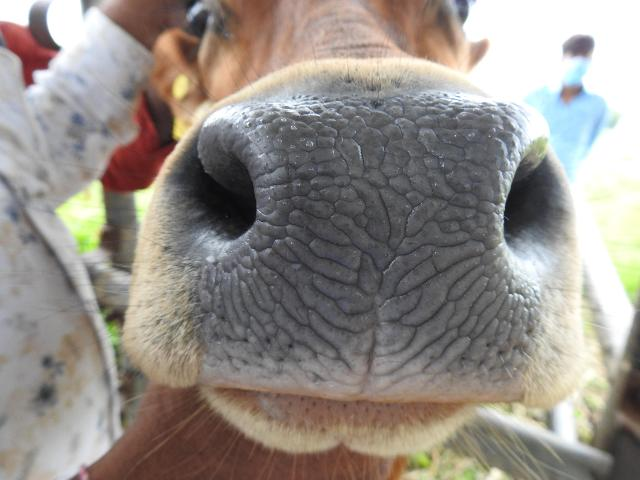Muzzle: (255, 100, 502, 384)
